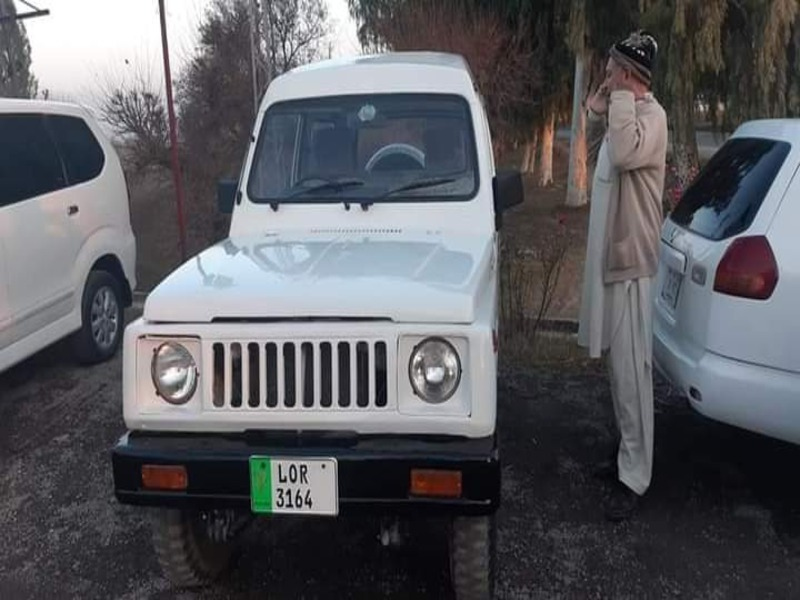License Plate: (246, 452, 343, 519)
